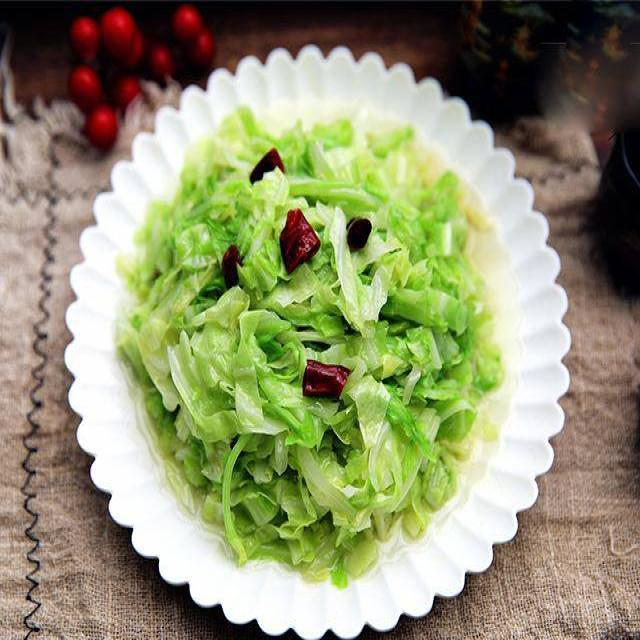bap cai xao: (118, 108, 504, 587)
